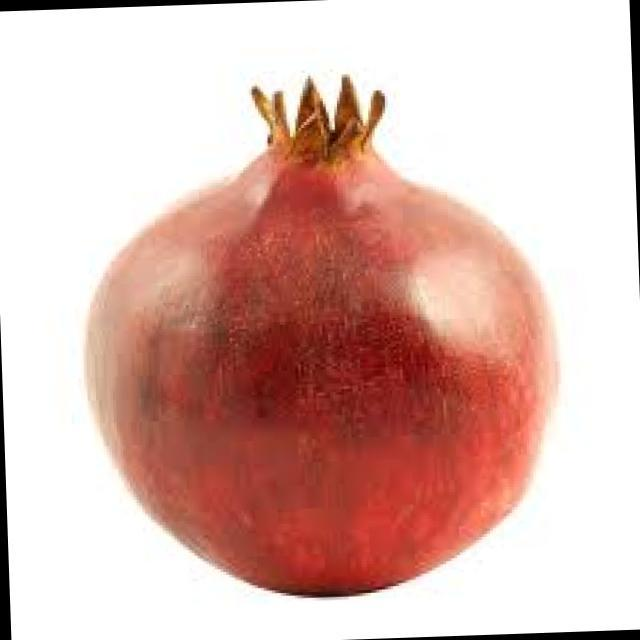Pomegranate: (42, 42, 619, 620)
